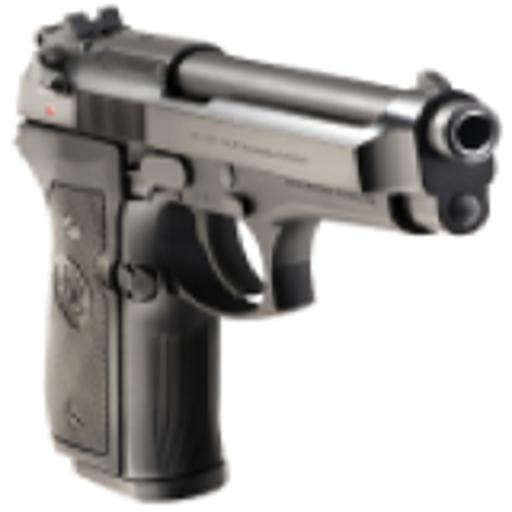Handgun: (5, 3, 498, 498)
